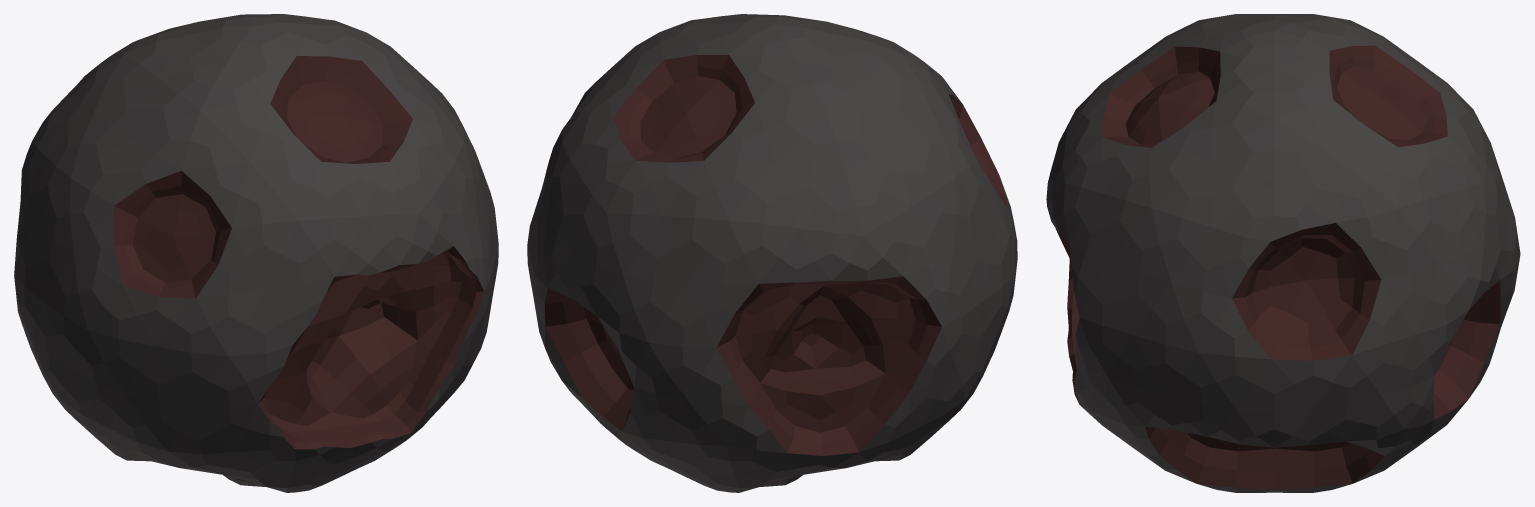
File: Planet4.fbx
3 renders of one model, left to right at view 1: azimuth 30°, elevation 25°; view 2: azimuth 150°, elevation 25°; view 3: azimuth 270°, elevation 25°, orthographic.
Visible parts, largest first — view 1: Superficie; view 2: Superficie; view 3: Superficie.
Boxes of the visible parts, box(x1,y1,x2,y2) form: Superficie: box(14, 14, 498, 492); Superficie: box(527, 14, 1017, 492); Superficie: box(1046, 14, 1520, 492).
Bounding box in the file's own units: 767 × 789 × 758.
